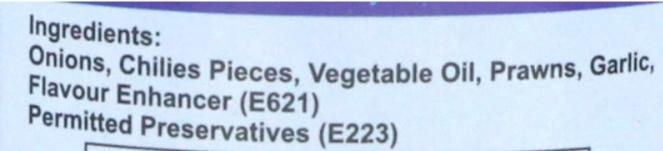ingredients: (23, 9, 662, 151)
